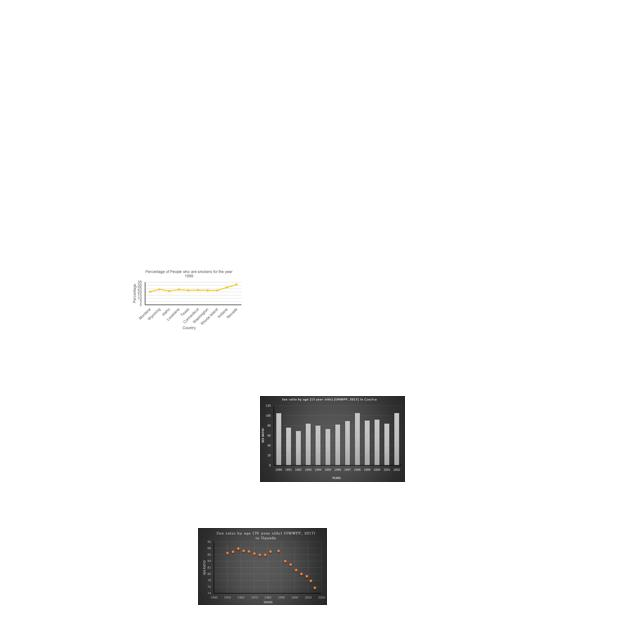Graph: (260, 396, 405, 482), (198, 528, 327, 605), (130, 268, 244, 332)
